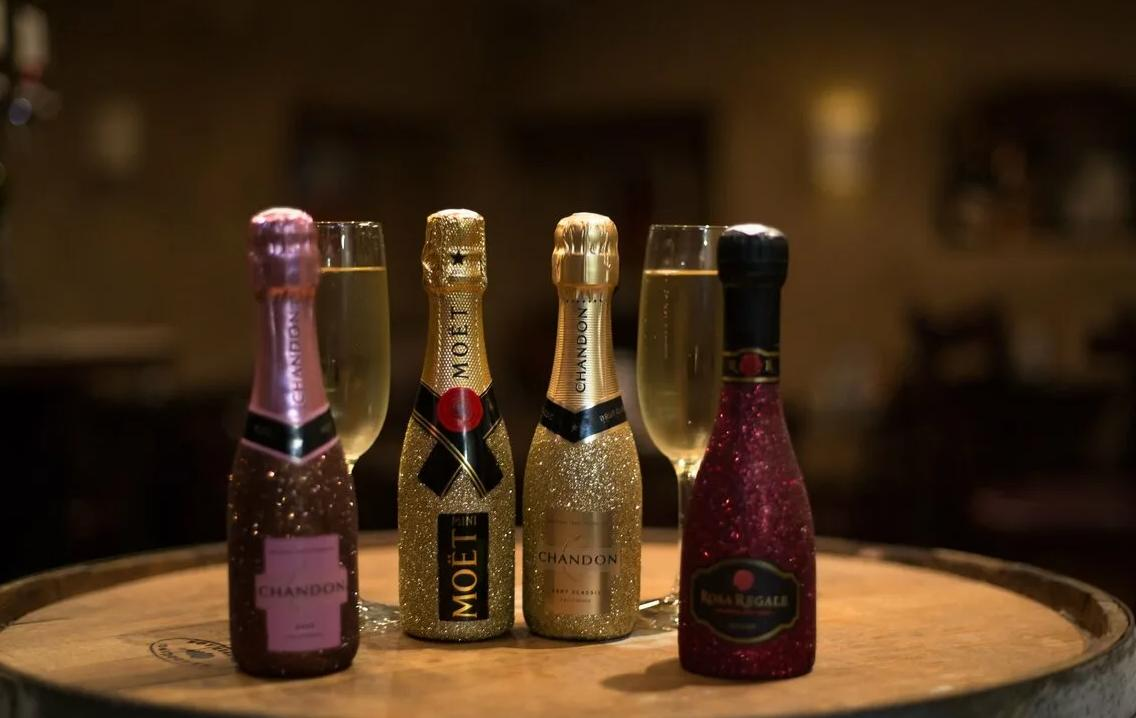wine bottle: (678, 222, 816, 681), (230, 205, 362, 679), (521, 211, 642, 644), (397, 205, 516, 640)
wine label: (254, 533, 349, 652), (531, 502, 621, 617), (691, 560, 800, 650), (434, 512, 492, 621)
